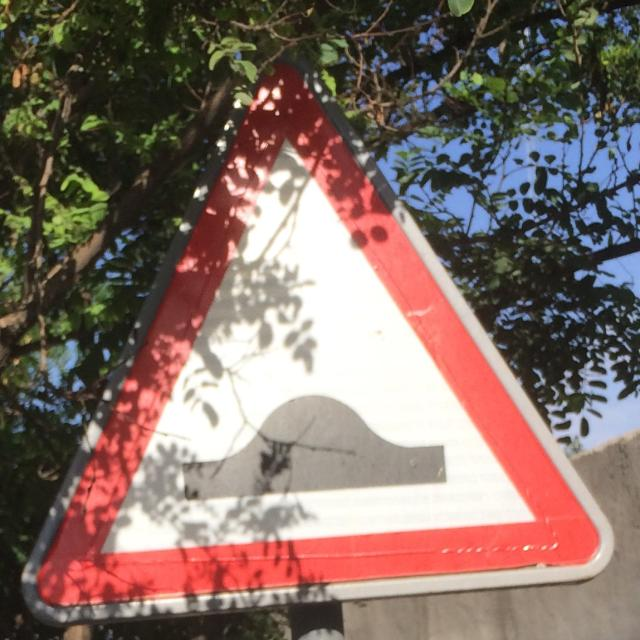HUMP_OR_ROUGH_ROAD: (17, 57, 619, 626)
